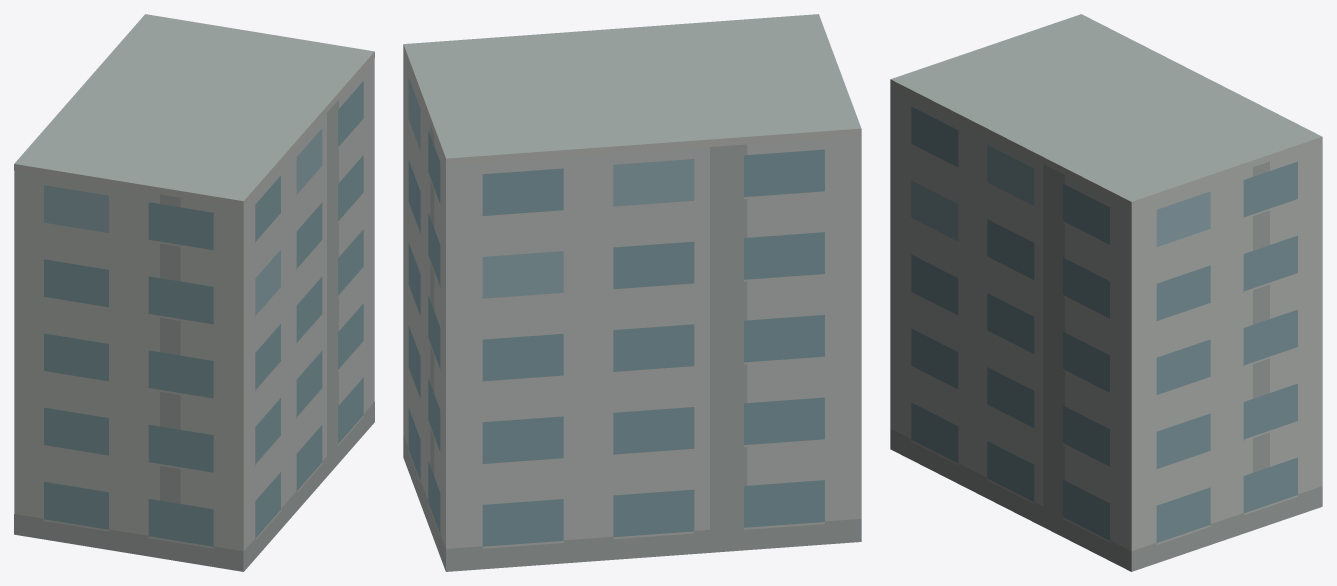
File: survey-upis-32721783.glb
3 renders of one model, left to right at view 1: azimuth 30°, elevation 25°; view 2: azimuth 150°, elevation 25°; view 3: azimuth 270°, elevation 25°, orthographic. The views are drawn at different scales.
Visible parts, largest first — view 1: survey-upis-32721783.tmp; view 2: survey-upis-32721783.tmp; view 3: survey-upis-32721783.tmp.
Part boxes in pixels (left/top/right/bottom): survey-upis-32721783.tmp: left=14, top=14, right=374, bottom=571; survey-upis-32721783.tmp: left=403, top=14, right=861, bottom=571; survey-upis-32721783.tmp: left=890, top=14, right=1322, bottom=571.
Size of the model in its own units: 14.66 by 13.45 by 14.24.
